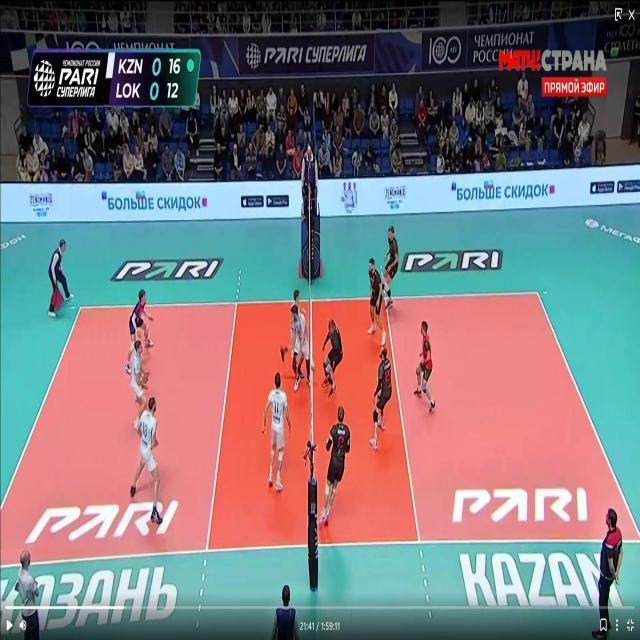volleyball: (277, 346, 290, 364)
